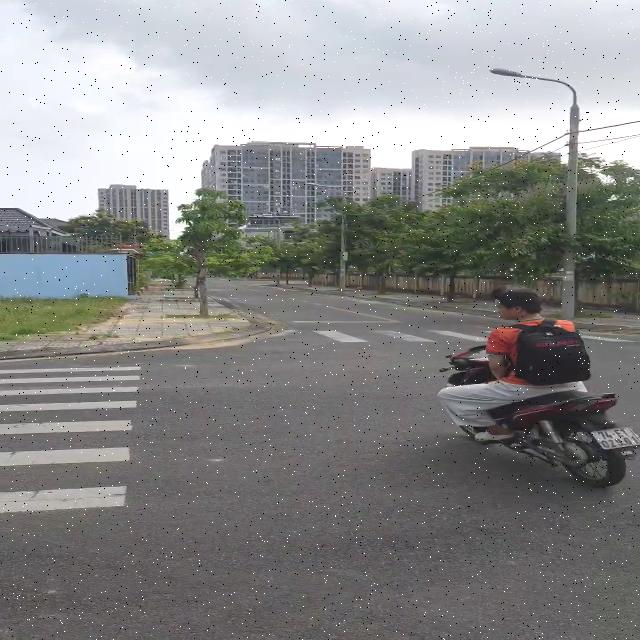no_helmet: (492, 284, 551, 326)
